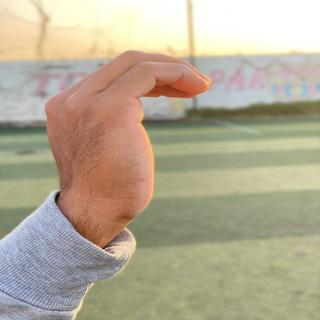HAA: (31, 41, 222, 247)
